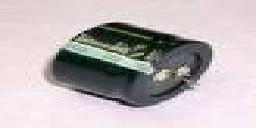Electrolytic-Capacitor: (45, 18, 213, 110)
